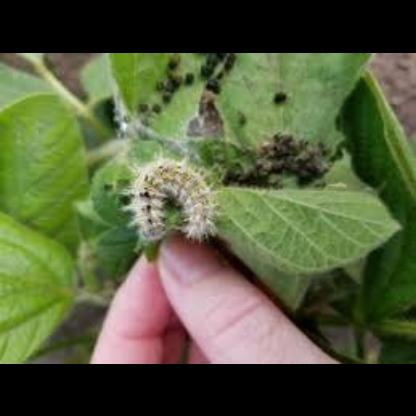oruga: (126, 158, 218, 246)
